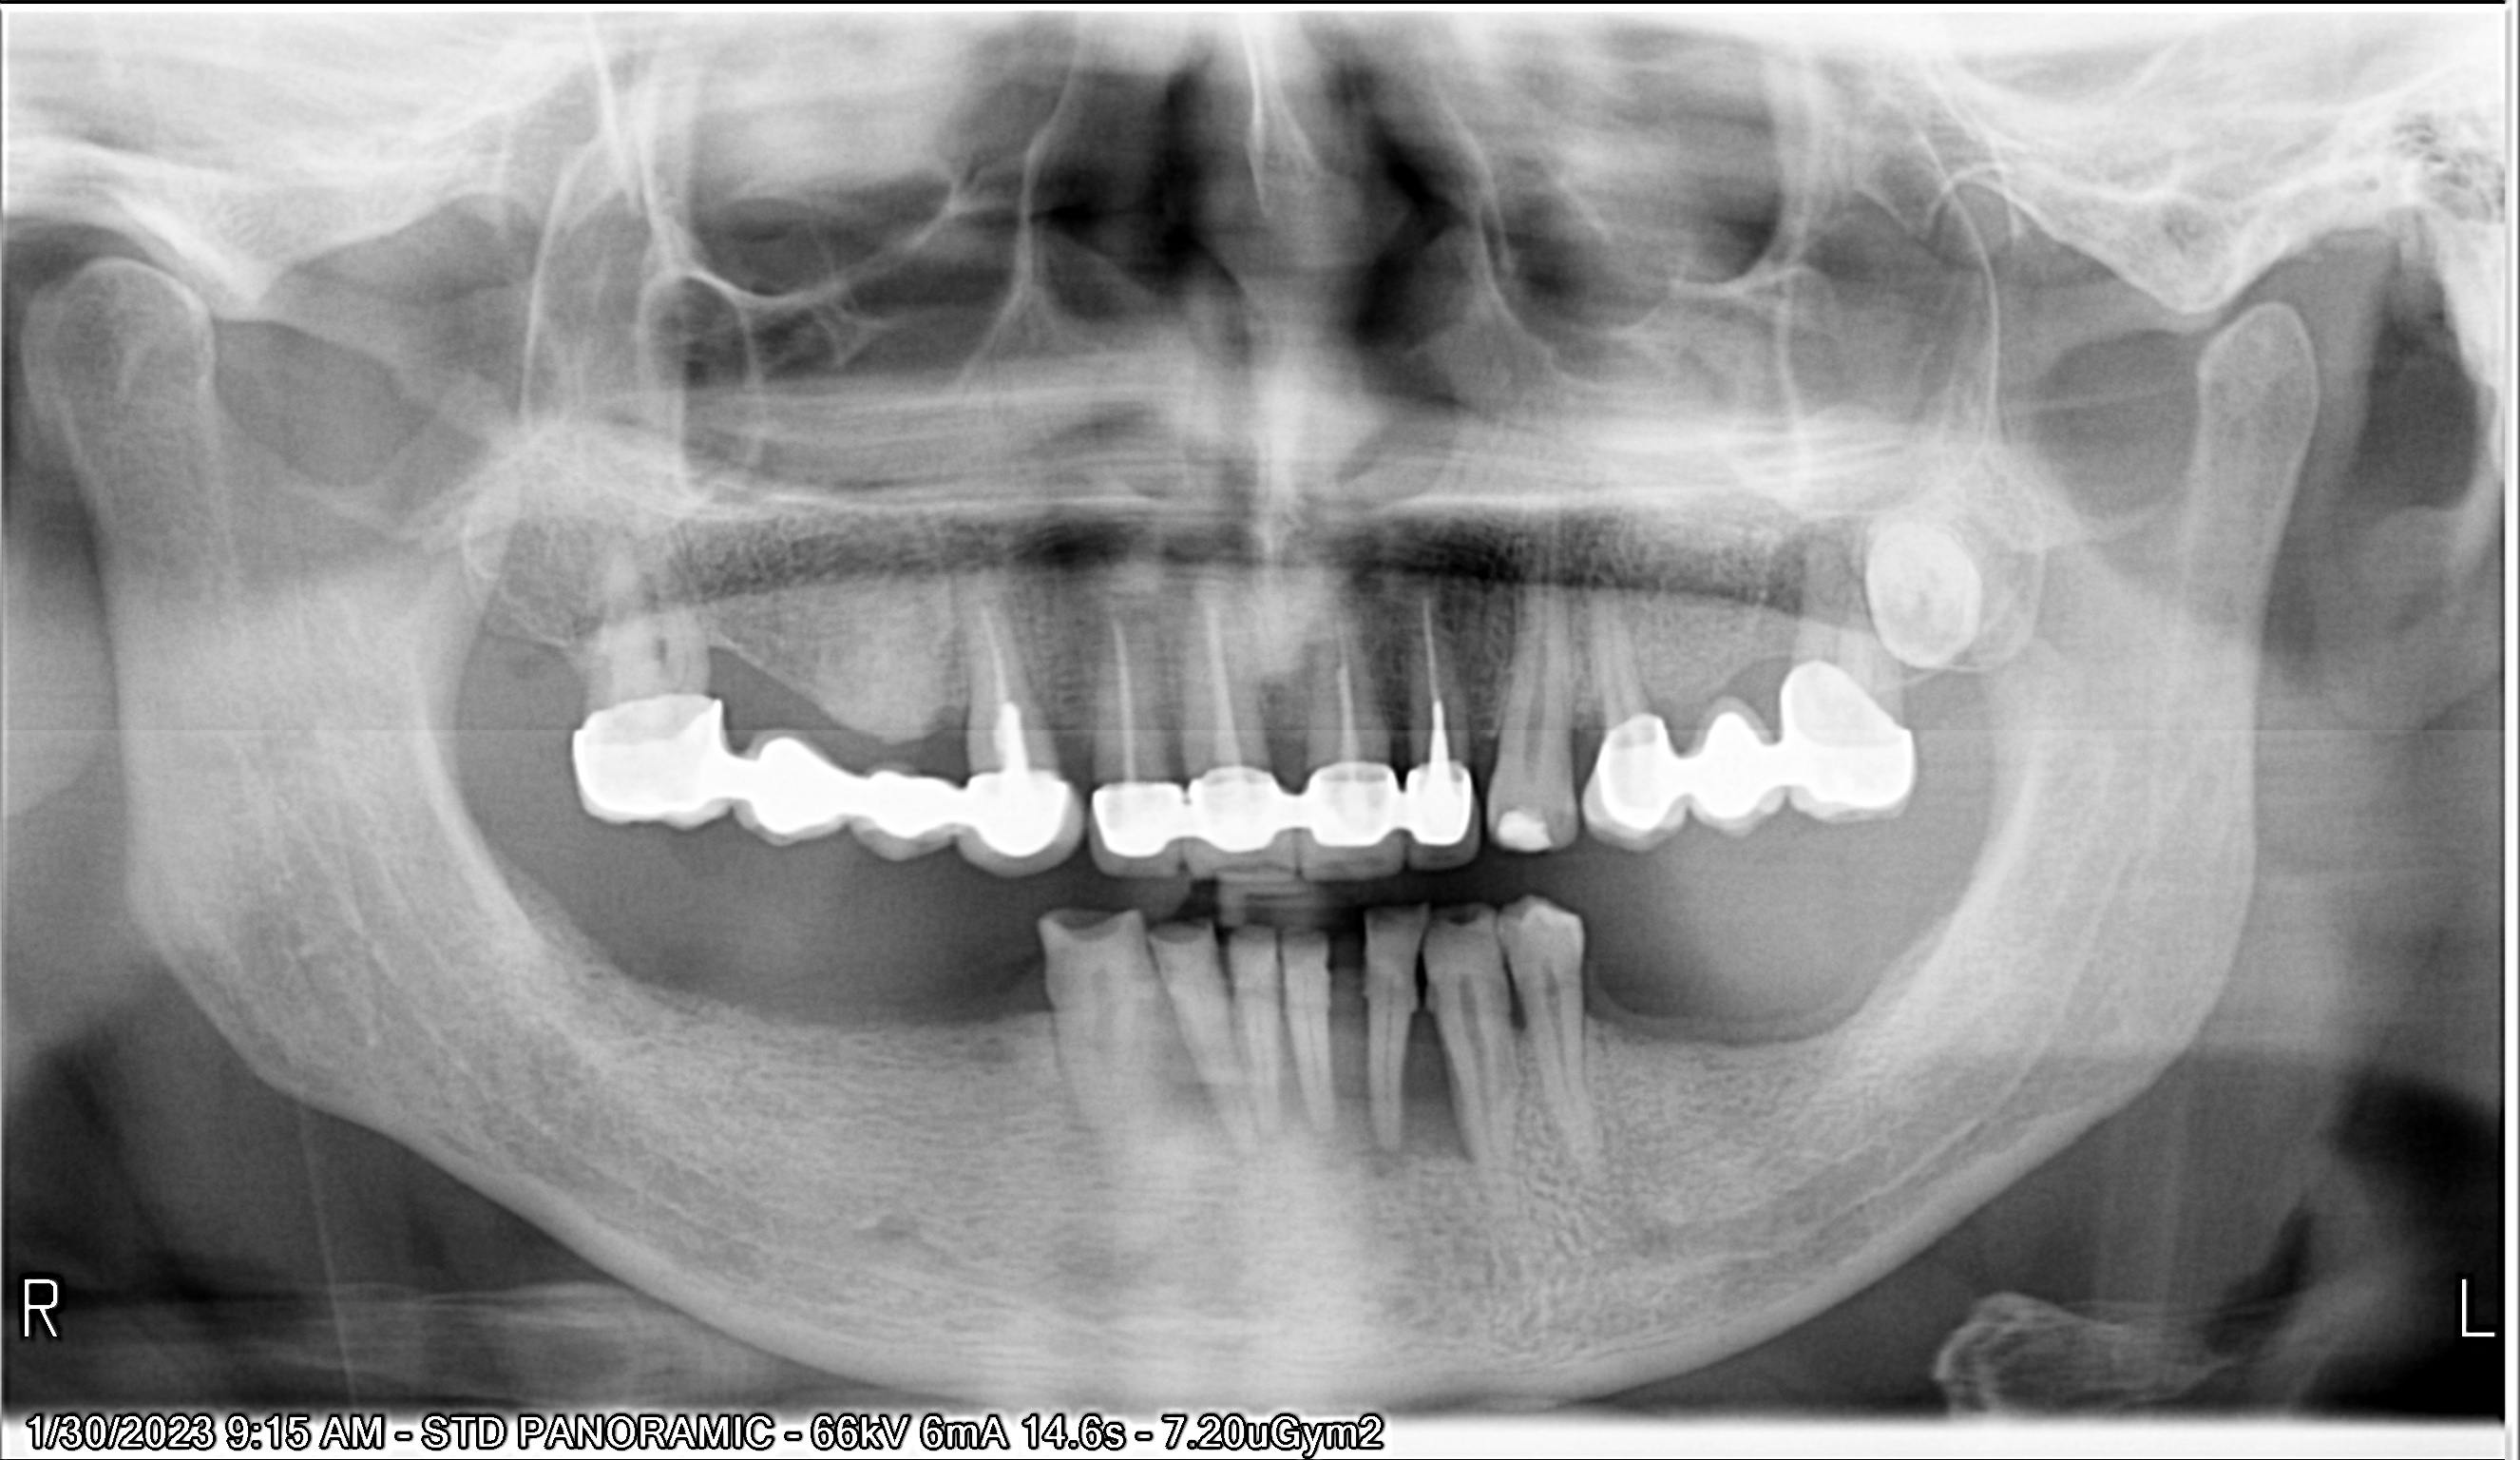BON: (684, 619, 775, 711), (1032, 687, 1106, 794), (908, 664, 986, 766), (1733, 591, 1808, 674)
END: (962, 567, 1044, 766), (1384, 575, 1468, 760), (1188, 582, 1256, 772), (1091, 603, 1153, 786), (1318, 577, 1374, 761)
IMT: (1853, 469, 1997, 693)
OBT: (1501, 786, 1558, 871)
PRR: (559, 687, 1085, 893), (1575, 667, 1933, 853), (1070, 758, 1480, 888)
